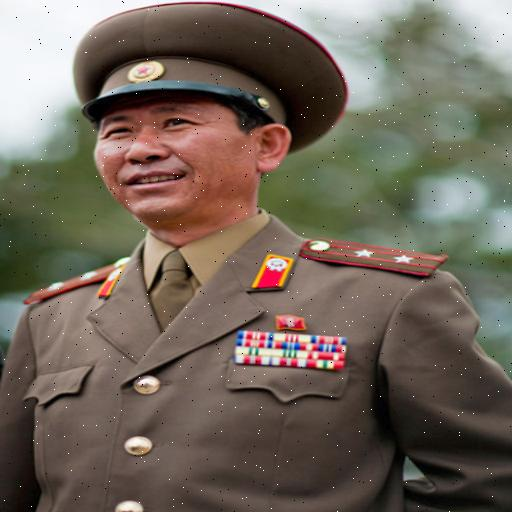north army: (22, 15, 491, 512)
